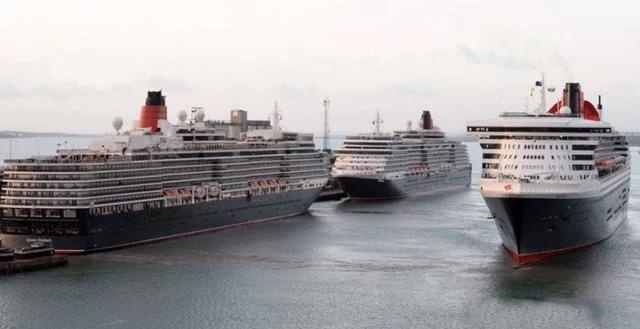youlun: (1, 87, 334, 260), (468, 73, 640, 263), (332, 109, 478, 202)
